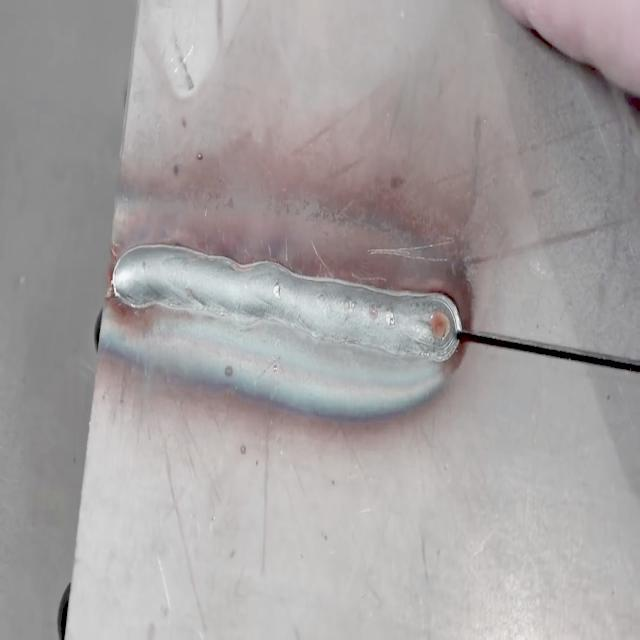Dry Waste: (99, 180, 488, 490)
